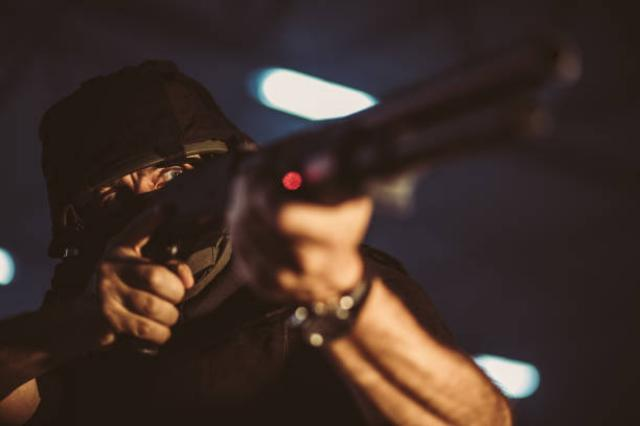other: (0, 64, 512, 424)
